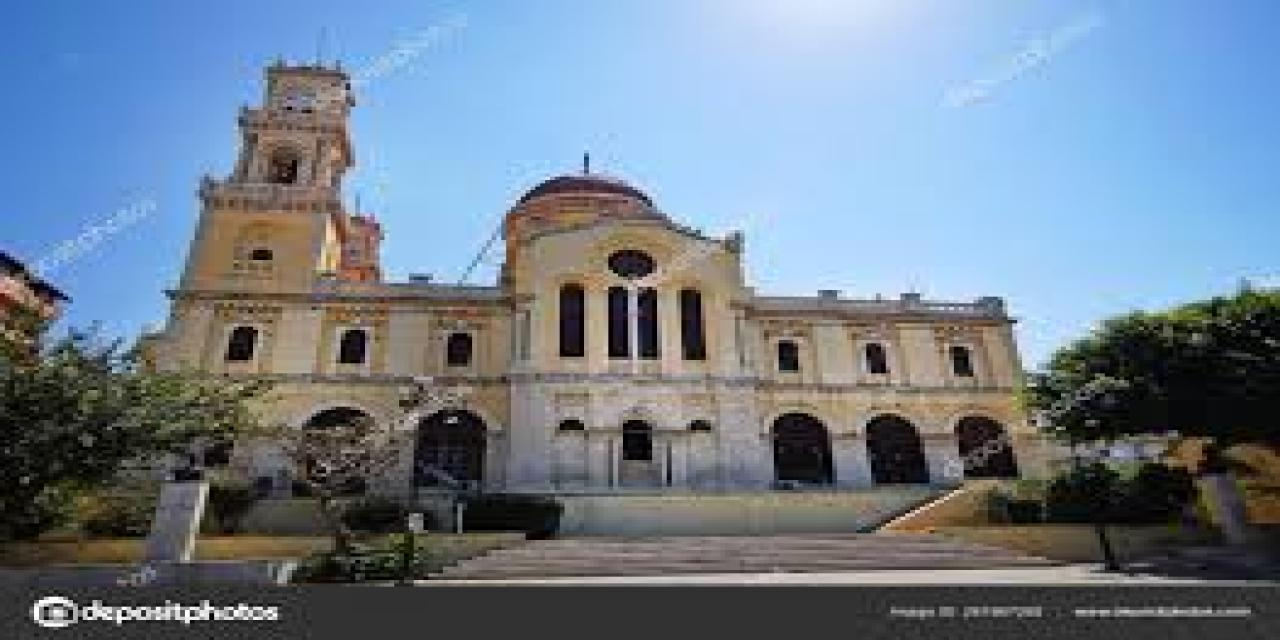Agios Minas: (146, 42, 1049, 530)
